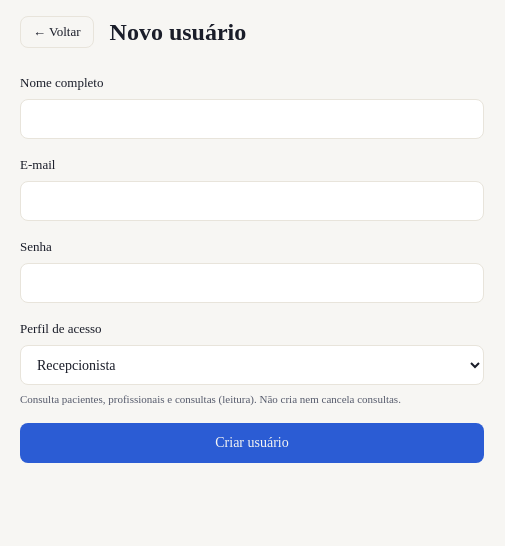
Scenario: NewClinicUserPage (integration) › shows global error message when API returns non-422 error
The width and height of the screenshot is (505, 546).
Type "Alice Costa" into the field with test id "user-form-fullname".
click(252, 119); type("Alice Costa")  # box [20,99,484,139]
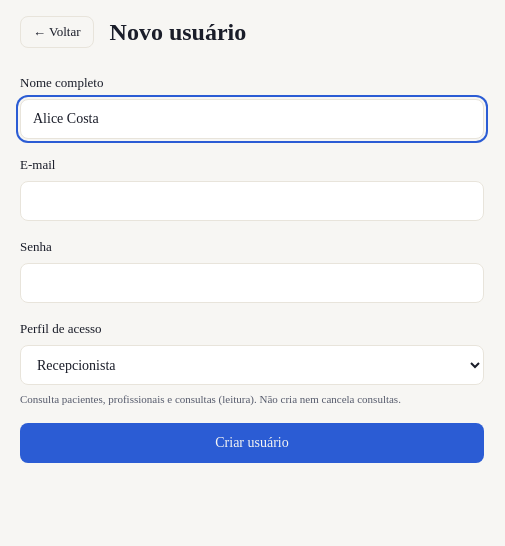
Type "alice@example.com" into the field with test id "user-form-email".
click(252, 201); type("alice@example.com")  # box [20,181,484,221]
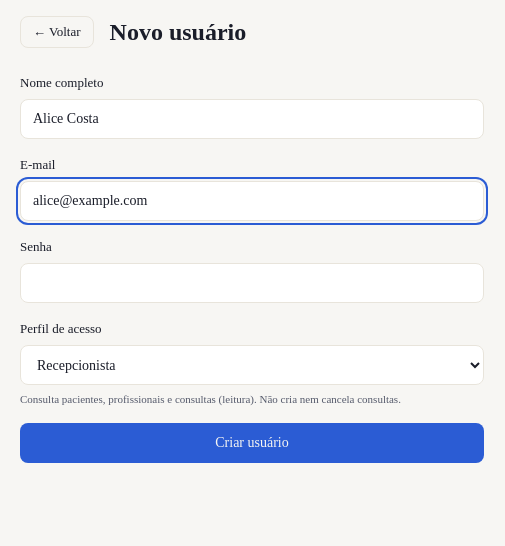
Type "Password123!" into the password field with test id "user-form-password".
click(252, 283); type("Password123!")  # box [20,263,484,303]
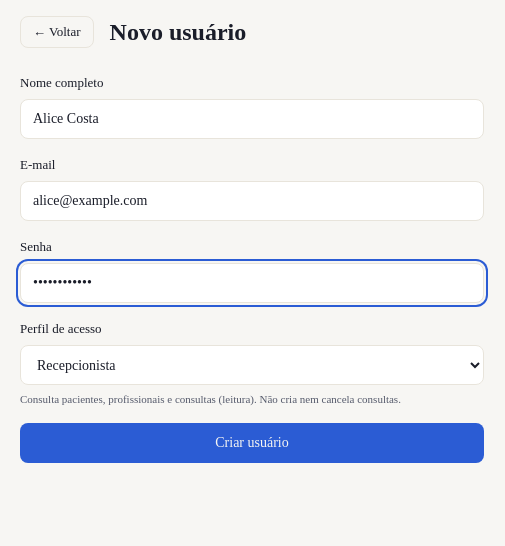
Click the button with test id "user-form-submit".
click(252, 443)  # box [20,423,484,463]
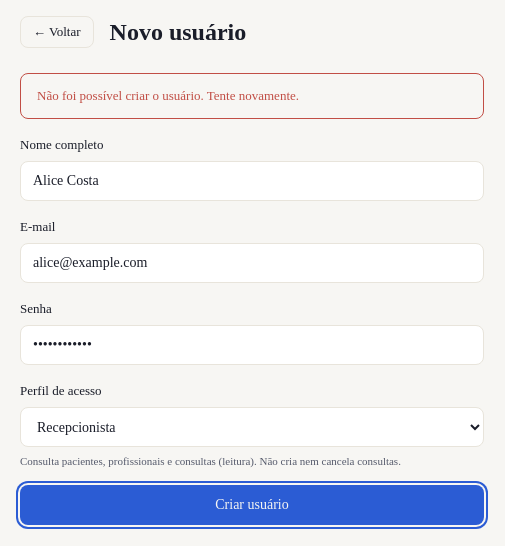
Result: the message "Não foi possível criar o usuário. Tente novamente." is shown at [20,73,484,119]
